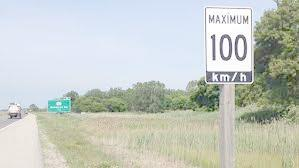speed limit sign: (200, 6, 255, 86)
